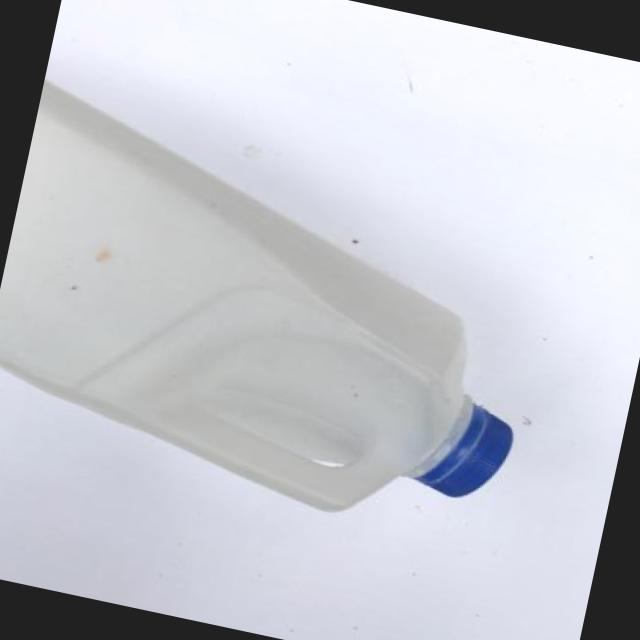plastic: (0, 77, 518, 545)
